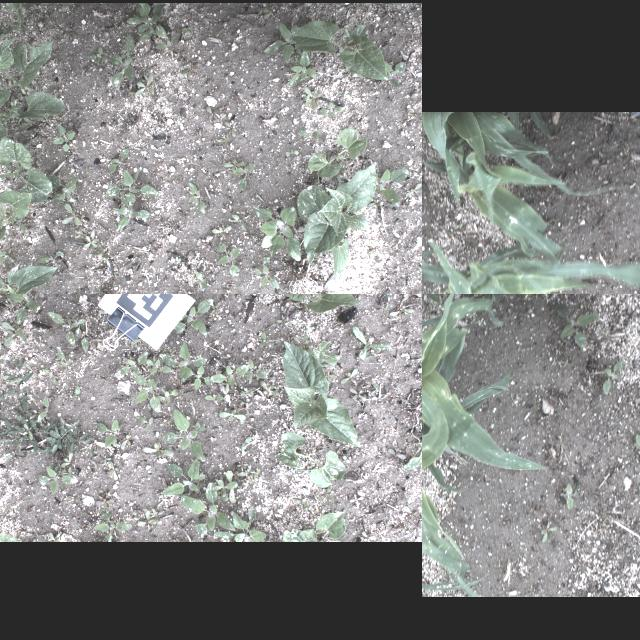crop: (423, 115, 617, 259), (422, 294, 546, 472), (422, 365, 485, 596), (422, 230, 640, 294), (295, 162, 377, 282), (280, 340, 358, 446), (0, 38, 64, 148), (287, 19, 388, 81), (268, 430, 346, 490), (0, 133, 55, 206), (305, 127, 369, 175), (422, 527, 458, 597), (0, 188, 35, 254), (279, 510, 349, 542), (0, 265, 59, 294), (0, 2, 31, 53), (269, 294, 355, 312), (477, 294, 499, 305)
weed: (0, 387, 92, 458), (157, 461, 231, 534), (155, 336, 213, 392), (250, 207, 300, 261), (120, 352, 160, 412), (101, 167, 161, 206), (163, 410, 205, 460), (43, 312, 89, 356), (173, 294, 217, 338), (214, 463, 262, 502), (554, 303, 596, 347), (122, 4, 170, 42), (216, 508, 268, 542), (262, 21, 302, 64), (108, 190, 148, 232), (34, 454, 76, 492), (3, 357, 35, 403), (374, 168, 408, 208), (350, 326, 390, 360), (285, 45, 317, 87), (88, 510, 132, 540), (0, 294, 41, 324), (222, 155, 256, 191), (112, 36, 136, 86), (210, 361, 248, 392), (131, 507, 167, 535), (93, 418, 125, 449), (213, 242, 241, 276), (44, 172, 78, 200), (401, 425, 422, 470), (602, 360, 626, 394), (379, 58, 406, 88), (56, 199, 82, 229), (246, 356, 272, 386), (102, 148, 130, 175), (148, 31, 178, 55), (296, 85, 322, 112), (49, 124, 73, 152), (314, 342, 338, 370), (249, 264, 279, 286), (0, 508, 20, 541), (187, 181, 206, 215), (132, 74, 158, 98), (202, 106, 230, 128), (140, 439, 174, 457), (0, 322, 24, 347), (86, 43, 112, 65), (536, 518, 558, 544), (560, 481, 578, 511), (54, 343, 72, 371), (189, 268, 211, 290), (32, 251, 66, 265), (216, 407, 250, 421), (367, 380, 387, 402), (292, 320, 310, 344), (228, 212, 248, 232), (39, 364, 57, 386), (315, 102, 343, 116), (258, 380, 278, 398), (102, 458, 120, 478), (81, 235, 99, 253), (338, 368, 356, 386), (31, 528, 58, 540), (402, 183, 422, 199), (134, 415, 154, 431), (386, 305, 412, 317), (385, 449, 407, 463), (221, 120, 237, 138), (160, 388, 178, 404), (238, 436, 256, 452), (346, 494, 364, 510), (253, 330, 269, 348), (208, 224, 236, 234), (346, 388, 366, 402), (0, 247, 13, 268), (274, 314, 290, 331), (349, 294, 371, 306), (200, 394, 224, 404), (298, 129, 320, 139), (70, 381, 80, 403), (262, 5, 276, 19), (633, 384, 640, 412), (320, 490, 336, 502), (290, 499, 310, 508), (120, 434, 130, 452), (360, 528, 374, 540), (633, 434, 640, 456), (260, 256, 270, 268), (237, 387, 249, 397), (399, 294, 421, 299), (284, 150, 300, 156), (628, 251, 634, 259)
